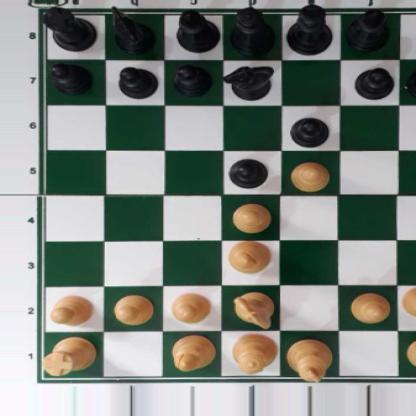black-bishop: (344, 6, 390, 53), (175, 8, 220, 52)
black-king: (289, 2, 333, 57)
black-knight: (111, 5, 156, 54), (226, 63, 272, 99)
black-pawn: (49, 62, 93, 95), (117, 65, 157, 98), (290, 115, 331, 147), (173, 64, 211, 96), (354, 68, 393, 99), (228, 158, 268, 188), (407, 65, 416, 97)
black-queen: (230, 6, 277, 54)
black-rook: (42, 6, 99, 49)
white-bishop: (172, 334, 214, 372), (227, 239, 270, 273)
white-king: (289, 336, 331, 383)
white-knight: (233, 290, 275, 329), (406, 335, 416, 383)
white-pawn: (47, 294, 95, 325), (169, 291, 211, 324), (348, 292, 390, 323), (231, 201, 272, 232), (289, 160, 331, 190), (112, 293, 153, 323), (402, 285, 416, 318)
white-queen: (232, 331, 275, 377)
white-rook: (42, 335, 98, 375)
